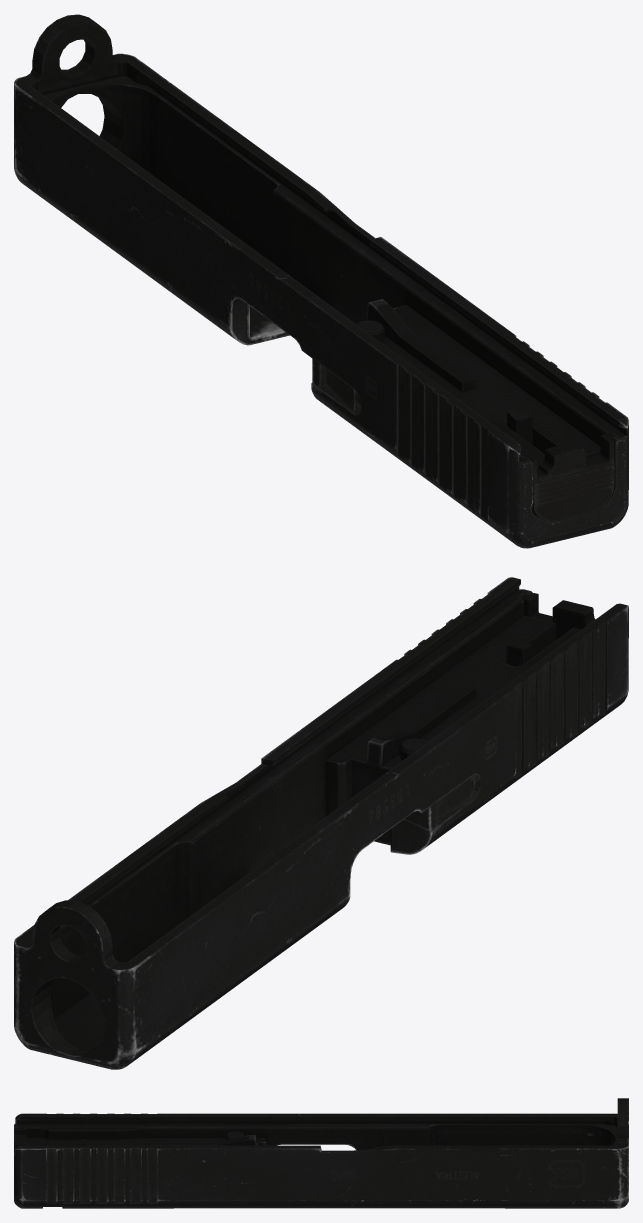
3 views of the same model, one above another, from view 1: azimuth 30°, elevation 25°; view 2: azimuth 150°, elevation 25°; view 3: azimuth 270°, elevation 25° (orthographic). The views are drawn at different scales.
Visible parts, largest first — view 1: TW_5a6f5e048dc32e00094b97da_PZ_Import; view 2: TW_5a6f5e048dc32e00094b97da_PZ_Import; view 3: TW_5a6f5e048dc32e00094b97da_PZ_Import.
Part boxes in pixels (box(x1,y1,x2,y2)): TW_5a6f5e048dc32e00094b97da_PZ_Import: box(14, 14, 628, 548); TW_5a6f5e048dc32e00094b97da_PZ_Import: box(14, 577, 628, 1069); TW_5a6f5e048dc32e00094b97da_PZ_Import: box(14, 1098, 628, 1208).
Bounding box in the file's own units: 0.0144 × 0.1058 × 0.0181.
Materials: 1 (1 with a texture image).
